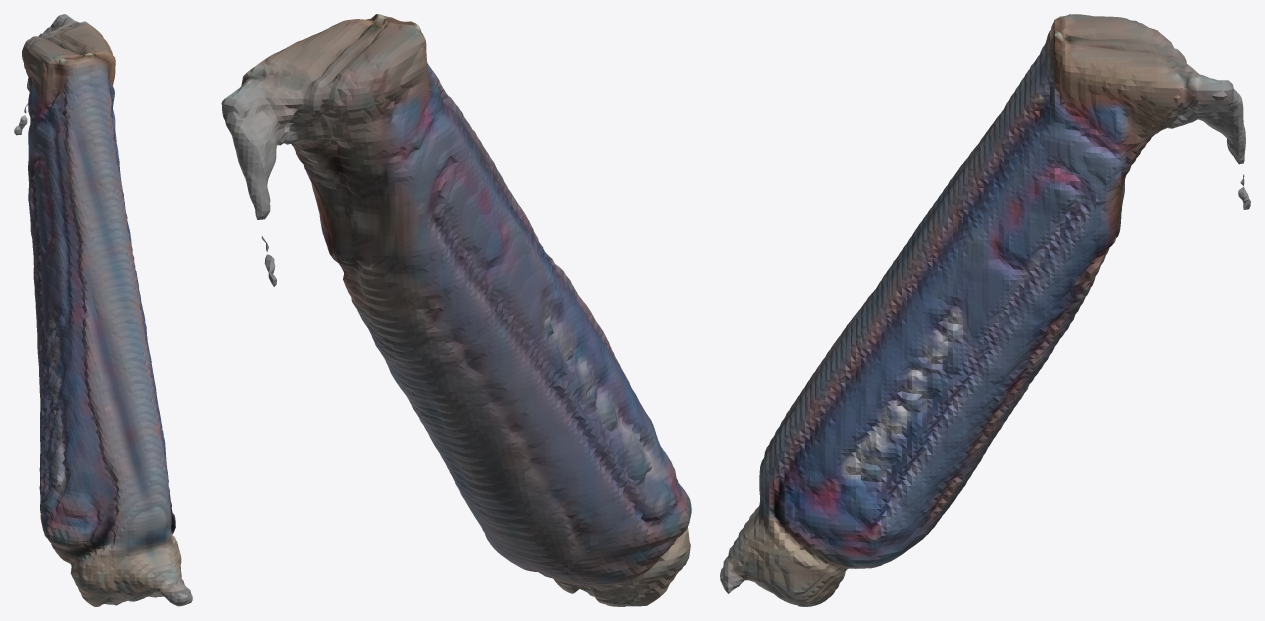
3 renders of one model, left to right at view 1: azimuth 30°, elevation 25°; view 2: azimuth 150°, elevation 25°; view 3: azimuth 270°, elevation 25°, orthographic. The views are drawn at different scales.
Visible parts, largest first — view 1: world; view 2: world; view 3: world.
Part boxes in pixels (<box>): world: <box>14,14,192,606</box>; world: <box>221,14,691,606</box>; world: <box>720,14,1250,606</box>.
Size of the model in its own units: 0.3562 by 0.8827 by 0.7098.
